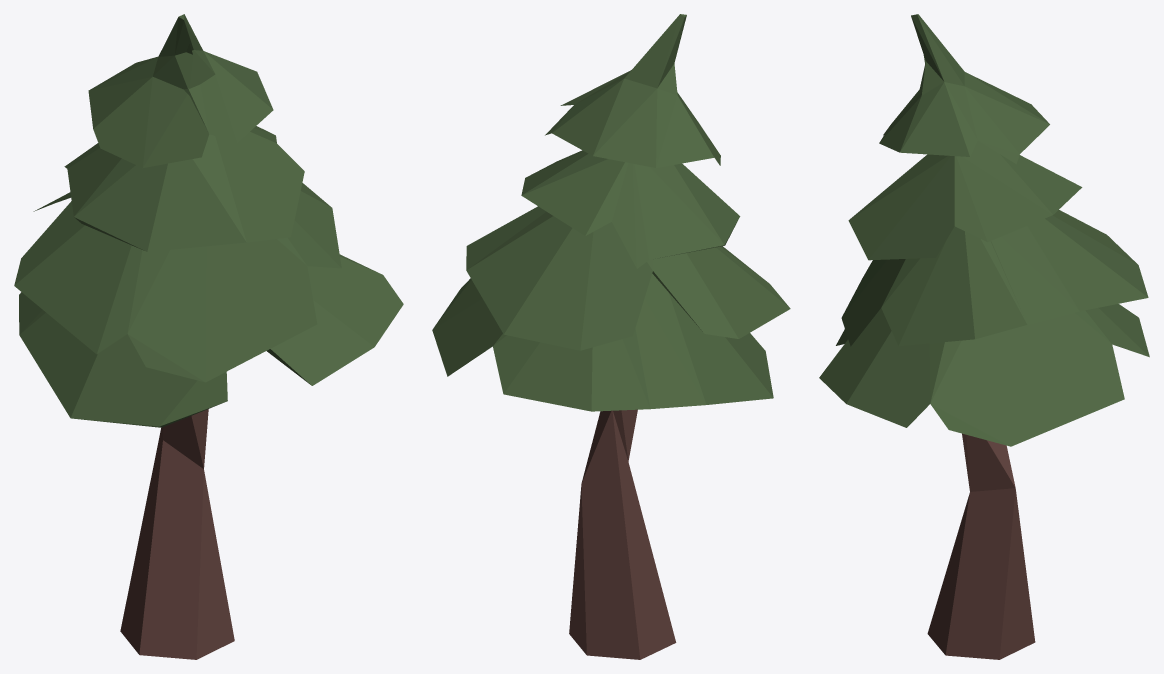
File: pine-tree-5.gltf
3 renders of one model, left to right at view 1: azimuth 30°, elevation 25°; view 2: azimuth 150°, elevation 25°; view 3: azimuth 270°, elevation 25°, orthographic. The views are drawn at different scales.
Visible parts, largest first — view 1: PineTree_5_Cylinder.028; view 2: PineTree_5_Cylinder.028; view 3: PineTree_5_Cylinder.028.
Part boxes in pixels (x1,y1,x2,y2): PineTree_5_Cylinder.028: (14,14,403,659); PineTree_5_Cylinder.028: (432,14,790,659); PineTree_5_Cylinder.028: (819,14,1149,659).
Size of the model in its own units: 0.0145 by 0.027 by 0.0132.
